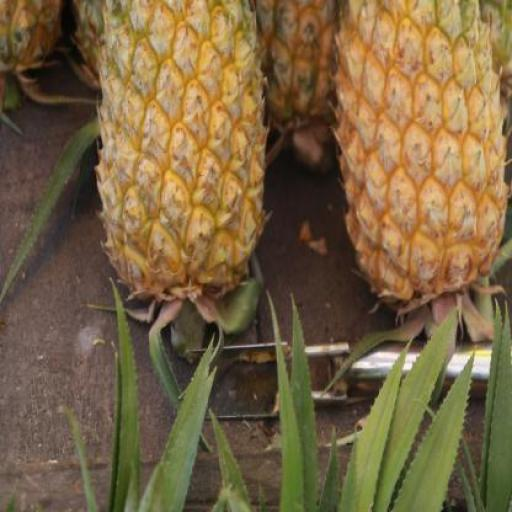Pineapple - v8 v1: (93, 0, 272, 311), (332, 0, 510, 300)
